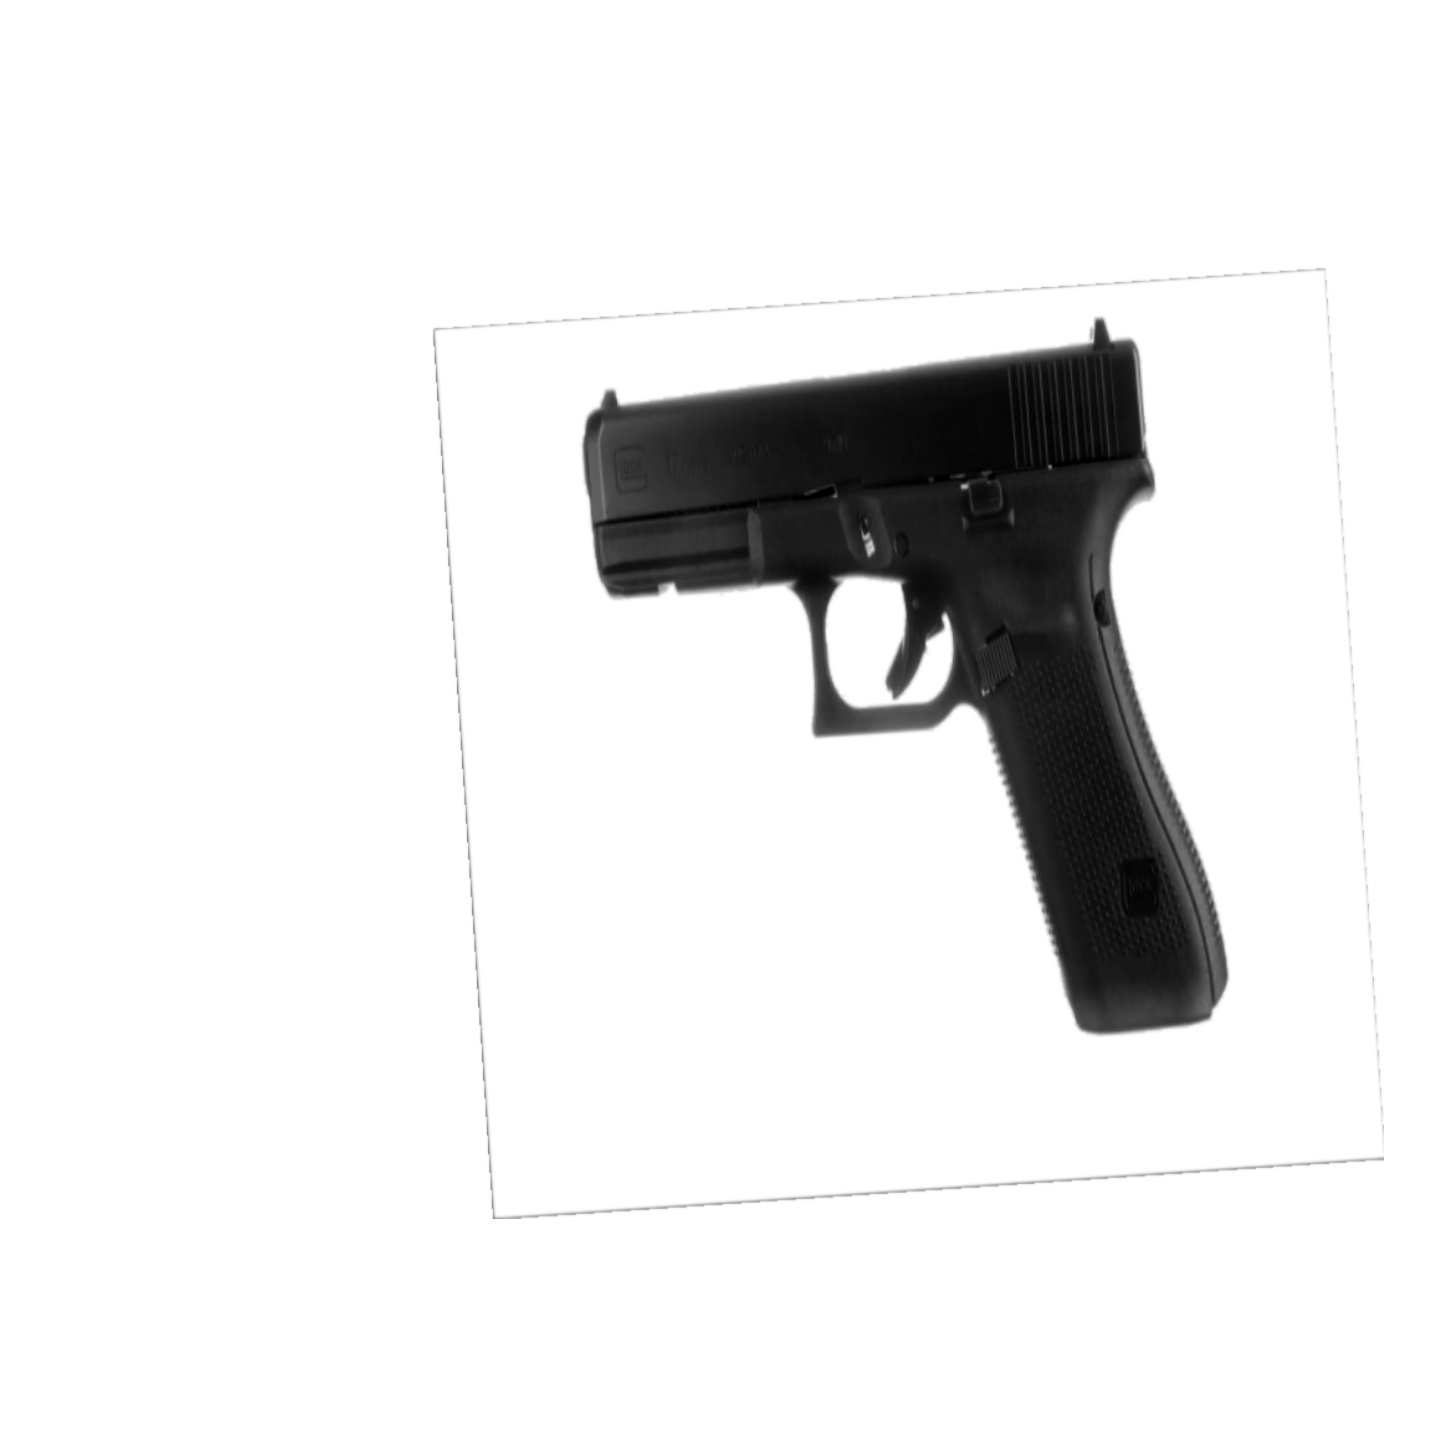gun: (577, 312, 1234, 1046)
